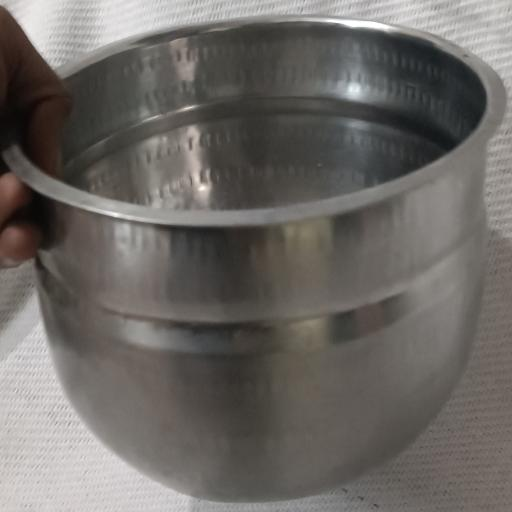vessel: (5, 18, 505, 501)
